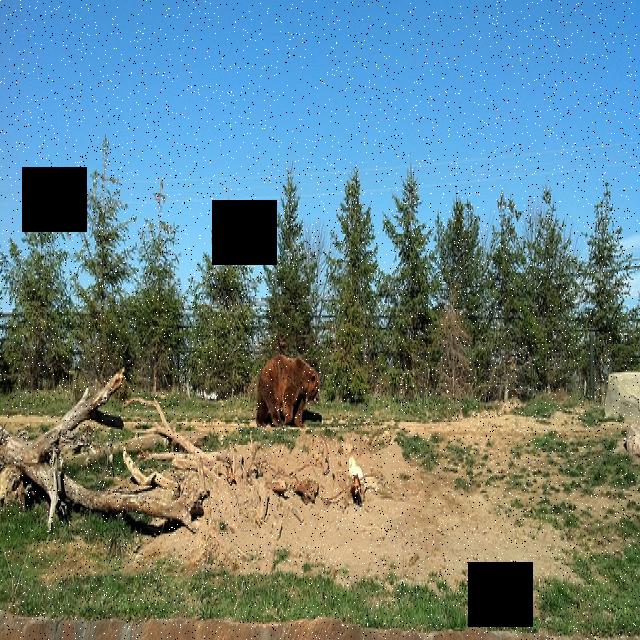Bear: (255, 347, 325, 431)
